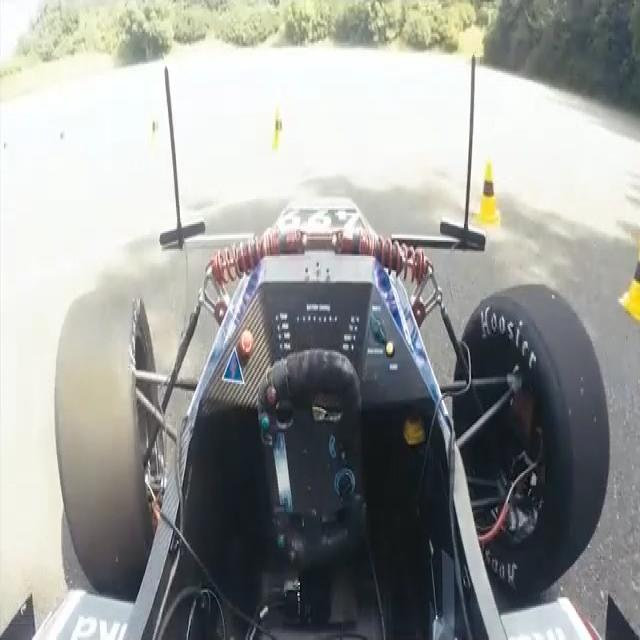yellow_cone: (617, 233, 640, 339), (475, 163, 504, 231)
